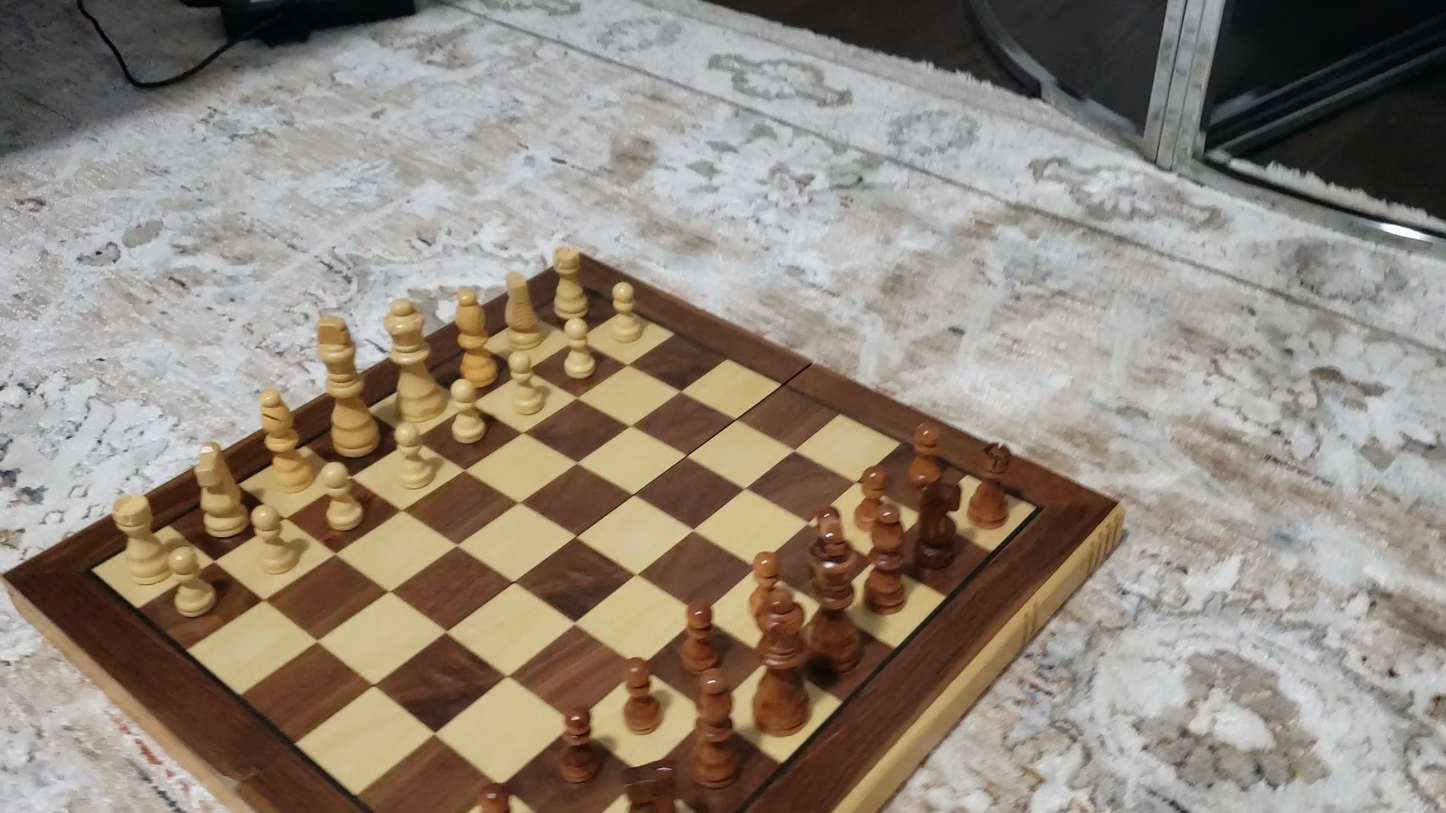black-bishop: (692, 671, 745, 789)
black-king: (798, 507, 873, 682)
black-knight: (911, 471, 965, 572), (622, 760, 683, 811)
black-pawn: (860, 501, 911, 612), (555, 704, 604, 785), (677, 596, 722, 677), (744, 545, 786, 628), (620, 655, 660, 736), (852, 462, 891, 539), (905, 418, 944, 493), (476, 780, 512, 812)
black-queen: (749, 584, 815, 737)
black-rook: (966, 439, 1013, 528)
white-bishop: (254, 385, 313, 493)
white-king: (312, 311, 381, 461)
white-knight: (193, 442, 246, 537), (452, 283, 496, 388), (497, 266, 545, 356)
white-pawn: (242, 502, 306, 578), (162, 540, 221, 622), (315, 460, 369, 536), (386, 419, 440, 495), (499, 343, 551, 419), (442, 375, 493, 448), (554, 313, 603, 384), (602, 277, 647, 347)
white-queen: (382, 296, 446, 423)
white-rook: (110, 491, 172, 587), (550, 241, 590, 324)
